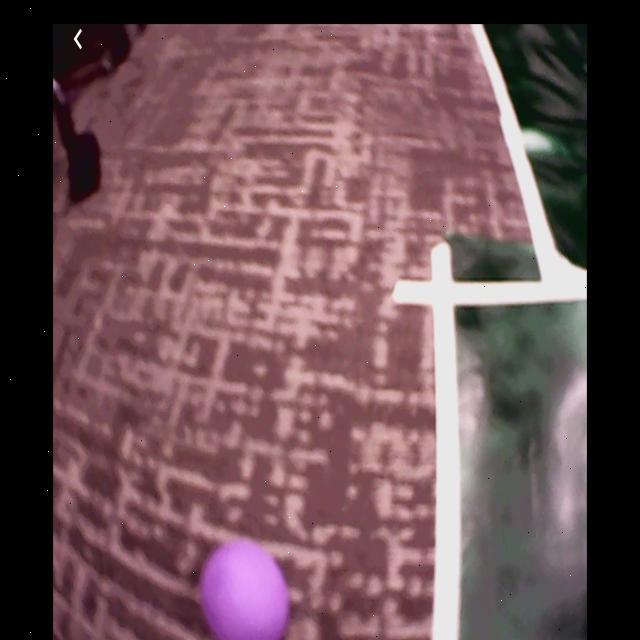ball: (200, 537, 292, 639)
